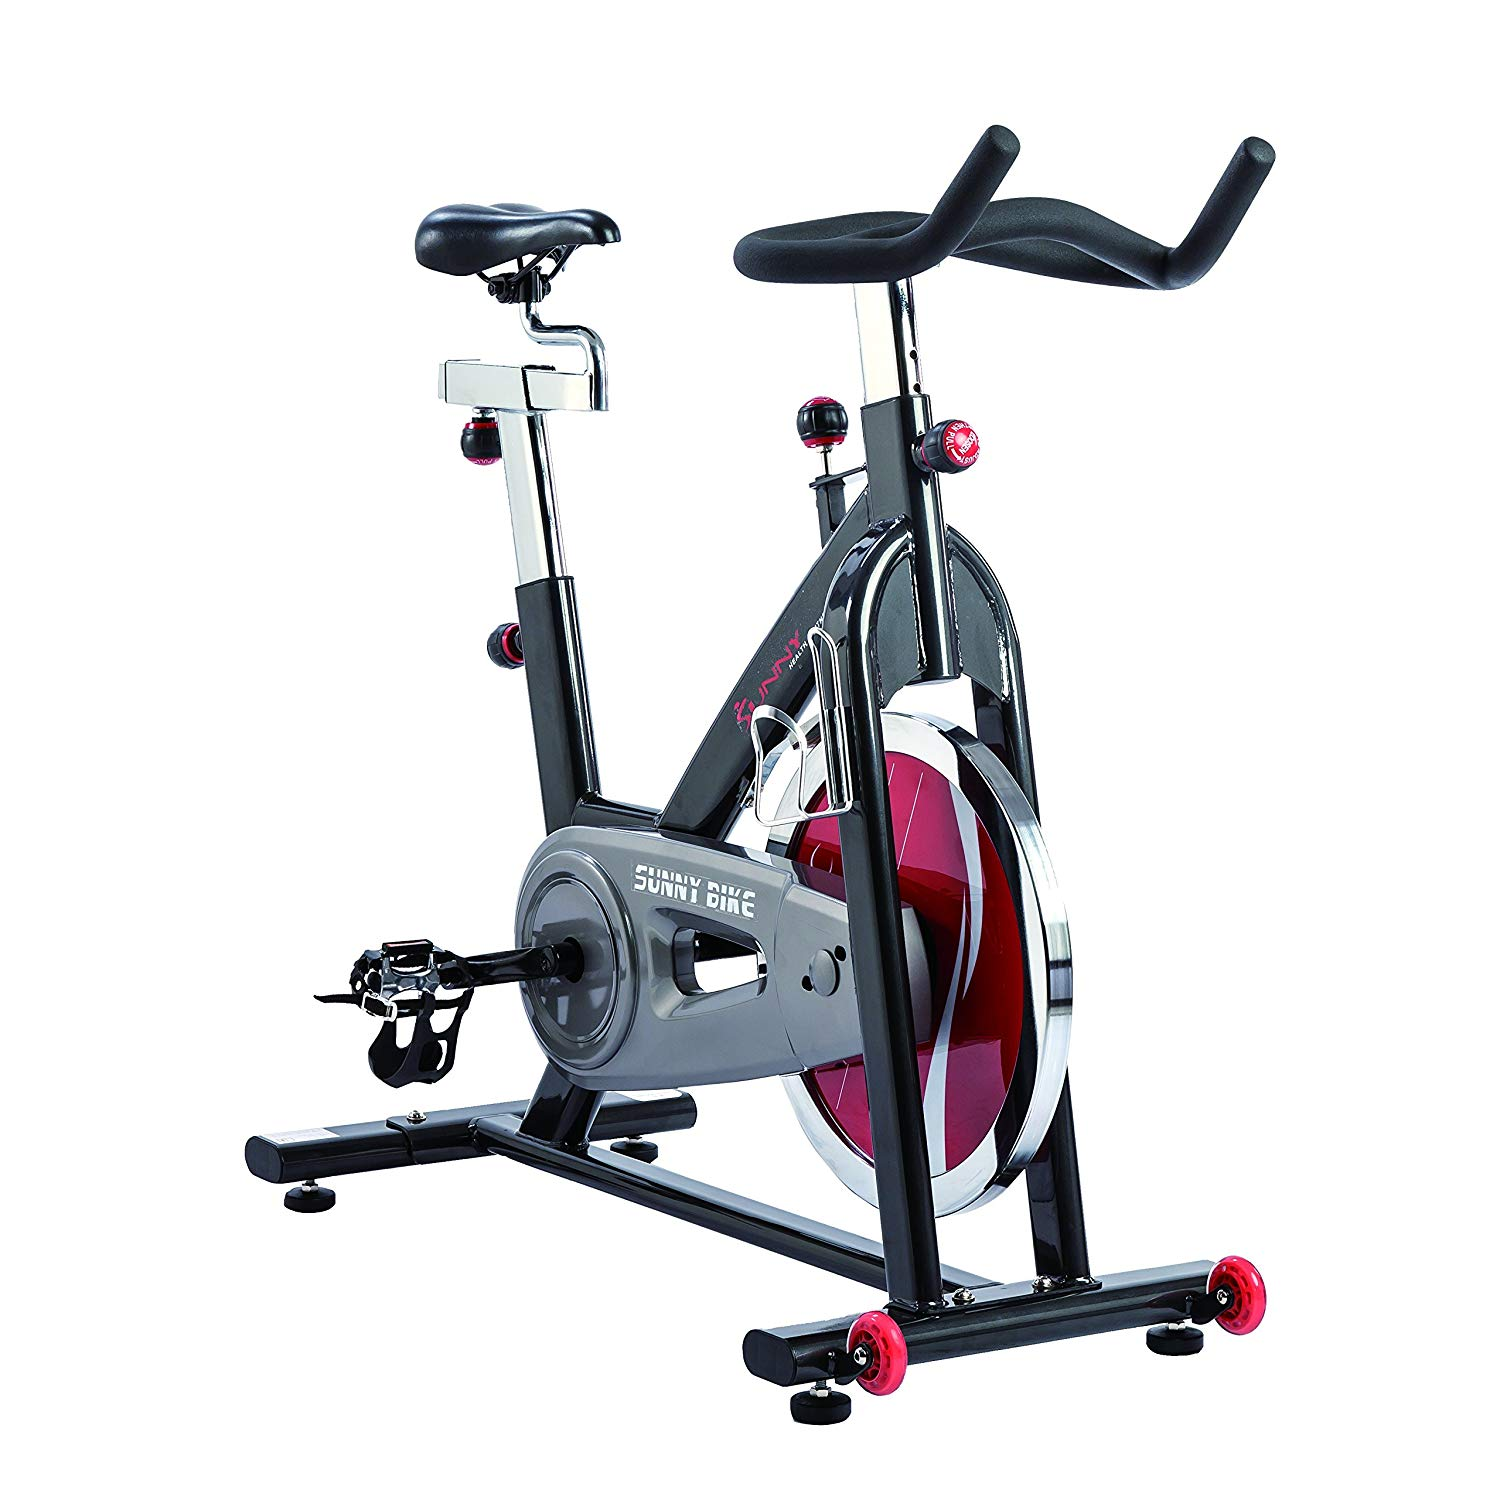gym_bike: (232, 140, 1312, 1429)
